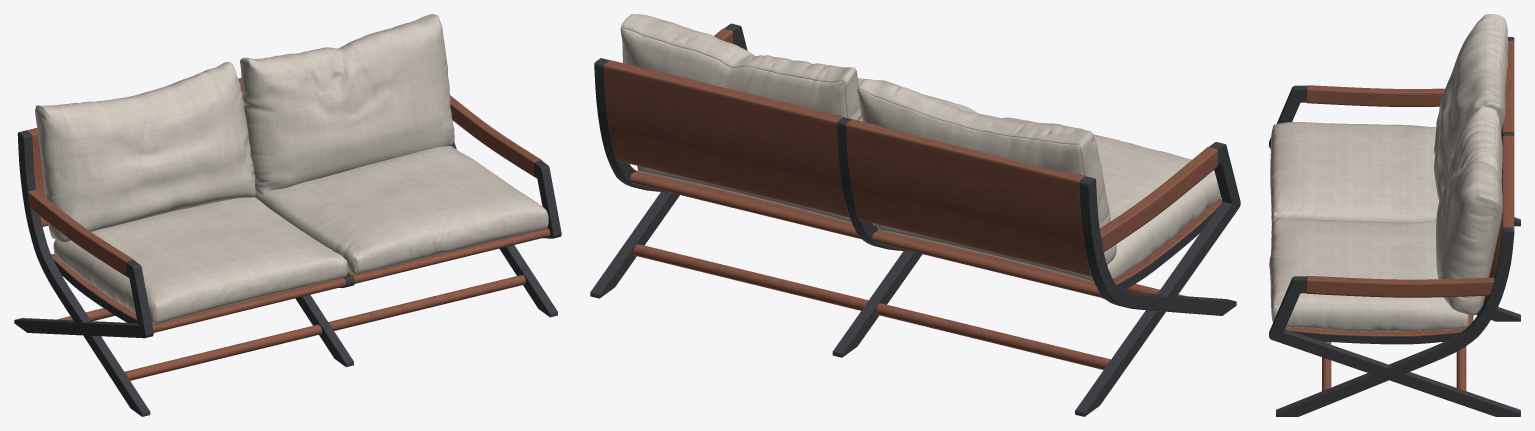
File: emilybench.gltf
3 renders of one model, left to right at view 1: azimuth 30°, elevation 25°; view 2: azimuth 150°, elevation 25°; view 3: azimuth 270°, elevation 25°, orthographic. The views are drawn at different scales.
Visible parts, largest first — view 1: emilybench; view 2: emilybench; view 3: emilybench.
Part boxes in pixels (x1,y1,x2,y2): emilybench: (14, 14, 561, 416); emilybench: (590, 14, 1240, 416); emilybench: (1269, 14, 1520, 416).
Bounding box in the file's own units: 1.51 × 0.7815 × 0.8221.
1 material, 1 textured.
